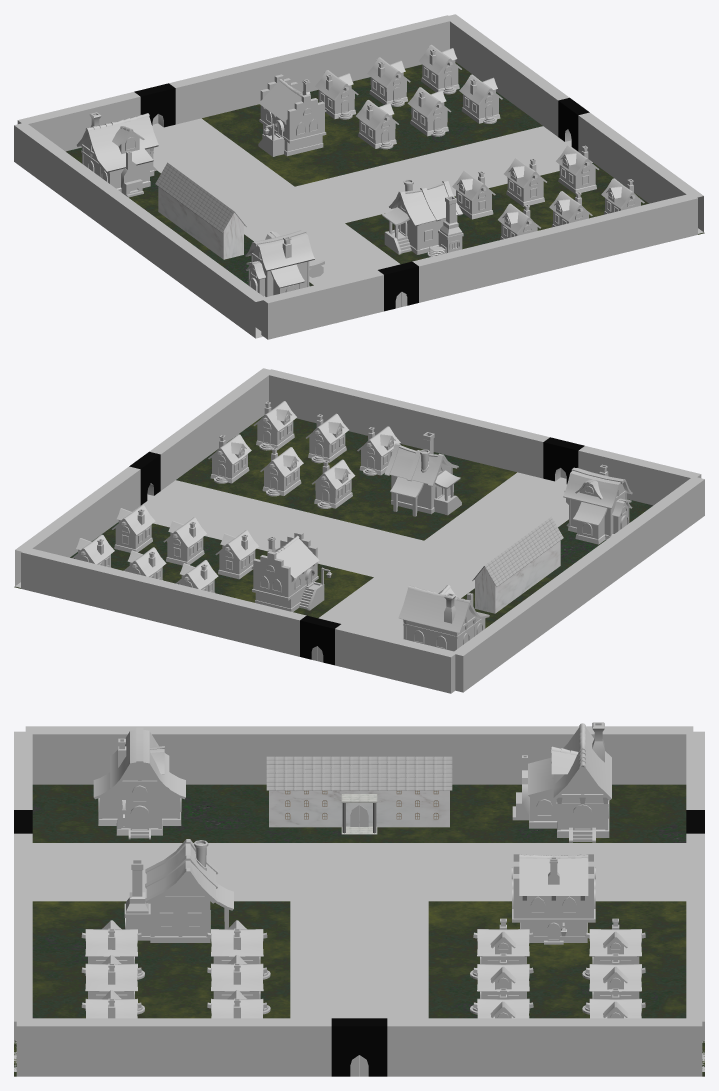
The model's file is Town.fbx.
3 views of the same model, one above another, from view 1: azimuth 30°, elevation 25°; view 2: azimuth 150°, elevation 25°; view 3: azimuth 270°, elevation 25° (orthographic). The views are drawn at different scales.
Parts seen in each view (by area): view 1: Plane001, Box001 (×3), Box004, Box003, Box002, Forge_119, Baker_house_38, Box022, Large_house_125, Box019, Tavern_220, Box011 (+24 smaller); view 2: Plane001, Box001 (×3), Box023, Box022, Box019, Box003, Box002, Large_house_125, Forge_119, Baker_house_38, Tavern_220, Box004 (+24 smaller); view 3: Plane001, Box015, Box014, Baker_house_38, Box010, Forge_119, Box011, Box016, Box013, Tavern_220, Large_house_125, Box041 (+23 smaller).
Boxes of the visible parts, x1,y1,x2,y2 form: Plane001: [66, 62, 704, 286]; Box001 (×3): [158, 187, 697, 311]; Box004: [261, 270, 383, 339]; Box003: [412, 233, 535, 302]; Box002: [529, 205, 651, 274]; Forge_119: [382, 179, 463, 256]; Baker_house_38: [76, 112, 158, 197]; Box022: [169, 55, 291, 124]; Large_house_125: [258, 74, 326, 156]; Box019: [285, 26, 407, 92]; Tavern_220: [245, 230, 324, 297]; Box011: [67, 161, 145, 249]; Plane001: [14, 415, 652, 638]; Box001 (×3): [266, 369, 584, 613]; Box023: [335, 624, 455, 693]; Box022: [183, 587, 306, 656]; Box019: [67, 559, 189, 628]; Box003: [427, 409, 549, 478]; Box002: [311, 380, 433, 449]; Large_house_125: [251, 531, 331, 611]; Forge_119: [384, 432, 461, 516]; Baker_house_38: [398, 585, 489, 651]; Tavern_220: [563, 464, 632, 544]; Box004: [578, 446, 701, 505]; Plane001: [14, 784, 704, 1076]; Box015: [387, 1018, 572, 1076]; Box014: [146, 1018, 331, 1076]; Baker_house_38: [512, 722, 611, 842]; Box010: [174, 726, 359, 784]; Forge_119: [124, 839, 233, 942]; Box011: [359, 726, 544, 784]; Box016: [572, 1018, 702, 1076]; Box013: [16, 1018, 146, 1076]; Tavern_220: [93, 727, 185, 839]; Large_house_125: [511, 849, 595, 944]; Box041: [266, 756, 452, 790].
Size of the model in its own units: 38276 by 5004 by 37276.
